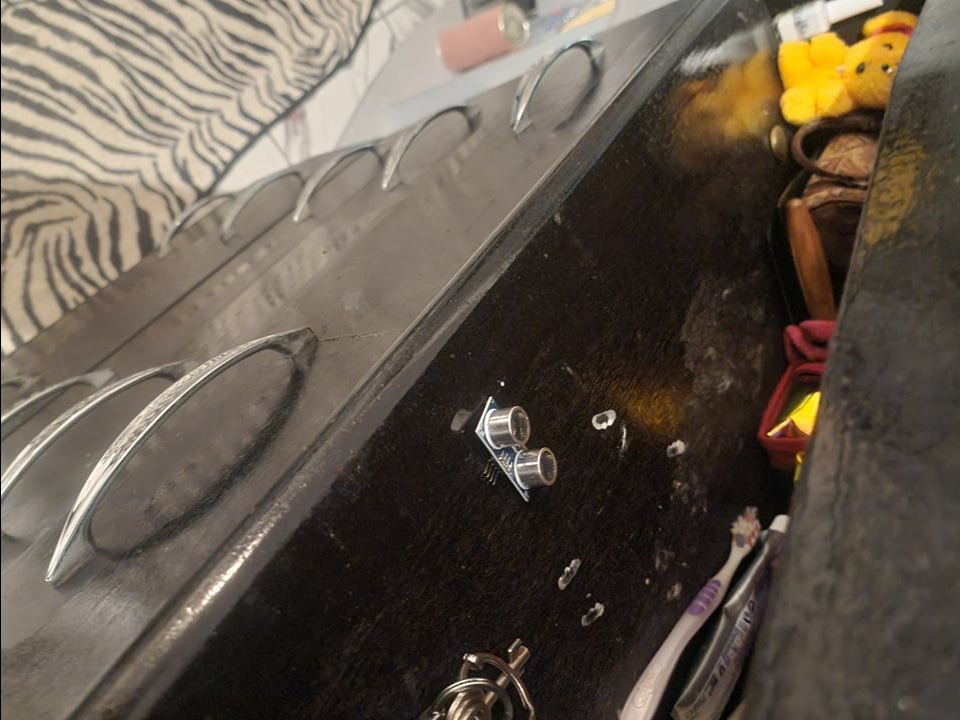SENSOR: (471, 393, 560, 505)
